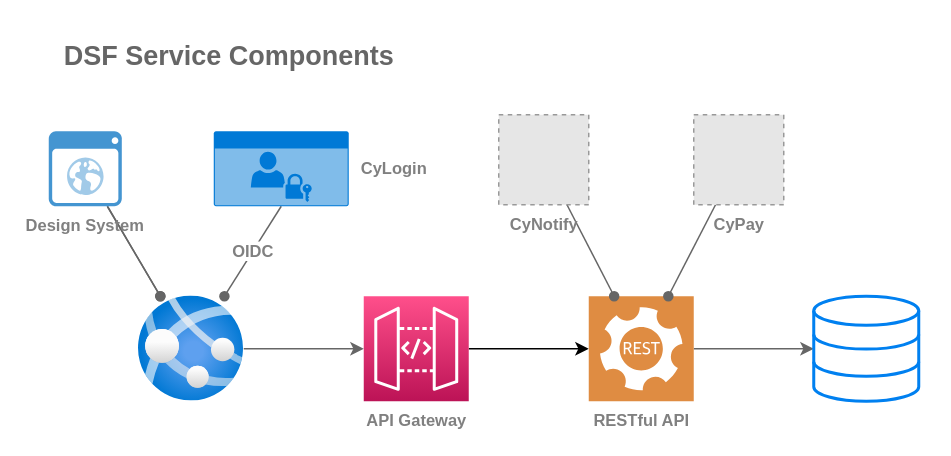
The diagram is 951 pixels wide and 456 high, and some of its shapes have lost their labels. Grey dashed boxes stand in for pictures. The box of each missing label's shape, as (x1, y1, x2, y2) in pixels:
Back-End Data: (812, 294, 920, 402)
Service: (138, 296, 243, 400)
